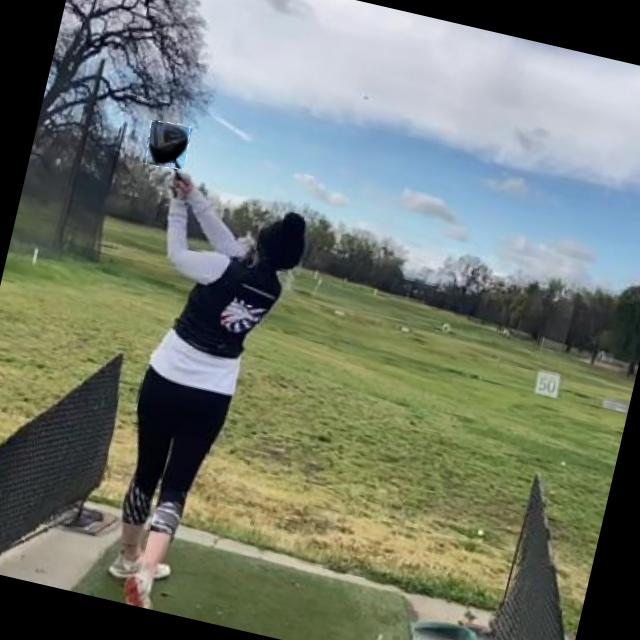club head: (142, 119, 192, 171)
